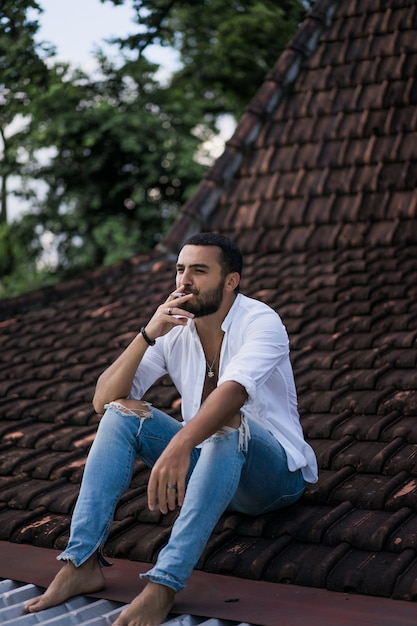cigarette: (170, 292, 188, 297)
